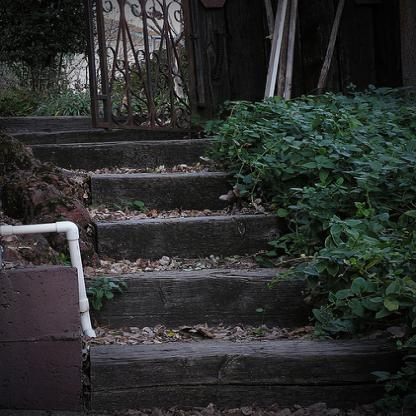stairs: (108, 204, 288, 411)
